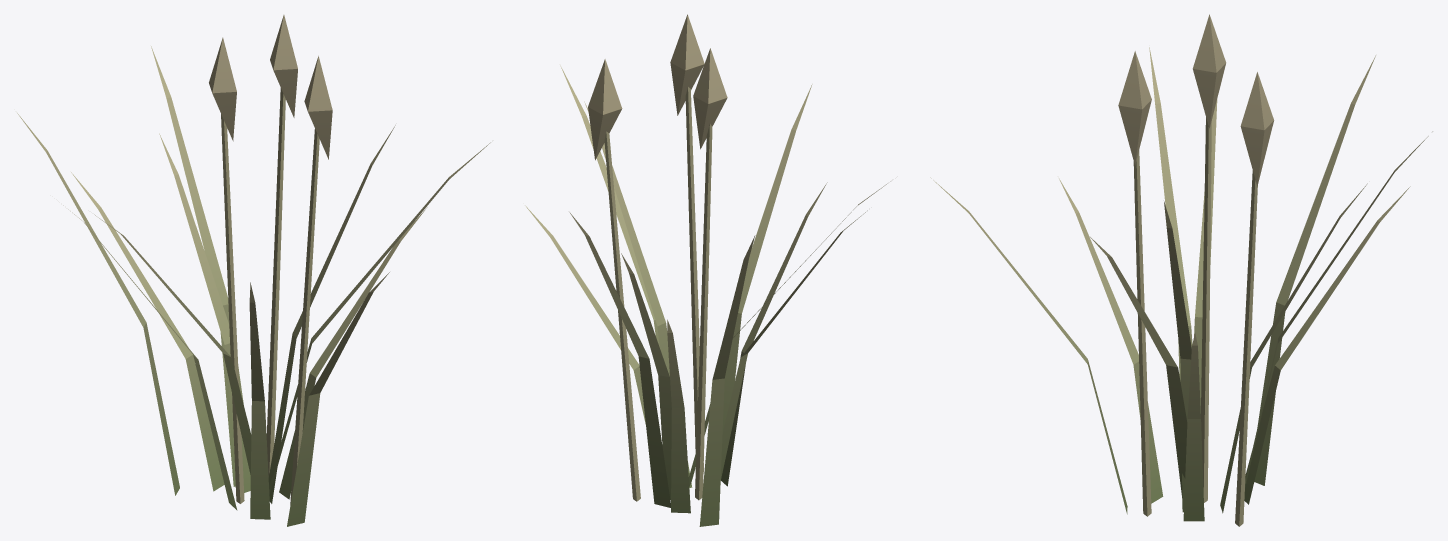
Rendered from veg-dune-grass.glb.
3 views of the same model, side by side, from view 1: azimuth 30°, elevation 25°; view 2: azimuth 150°, elevation 25°; view 3: azimuth 270°, elevation 25° (orthographic). The views are drawn at different scales.
Parts seen in each view (by area): view 1: LOD0; view 2: LOD0; view 3: LOD0.
Boxes of the visible parts, box(x1,y1,x2,y2) form: LOD0: box(17, 15, 490, 526); LOD0: box(525, 14, 890, 526); LOD0: box(930, 14, 1432, 526).
Size of what is drawn, in the model's own units: 1.13 by 1.31 by 1.24.
